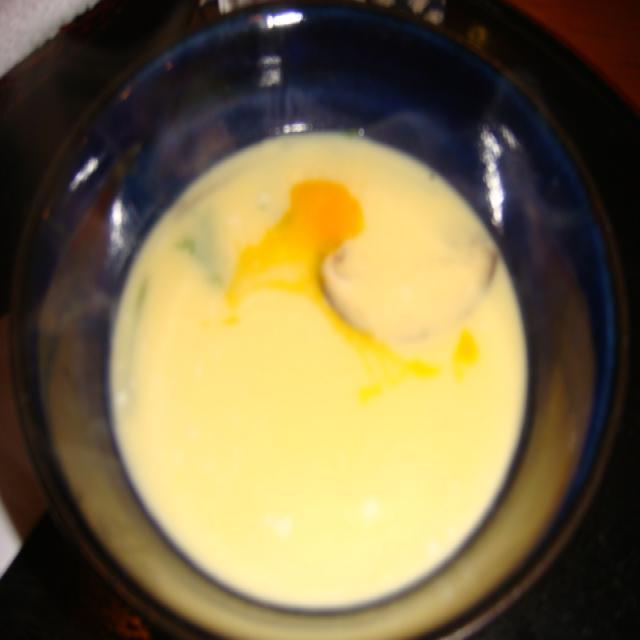鸡蛋料理: (92, 0, 540, 640)
